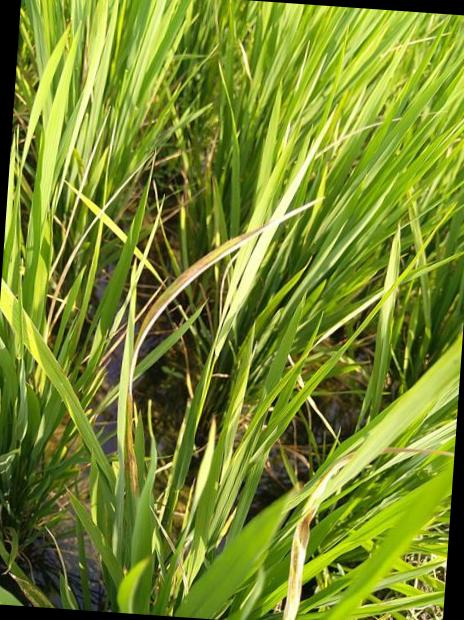Leaf Streak: (126, 224, 270, 499), (283, 447, 455, 620)
